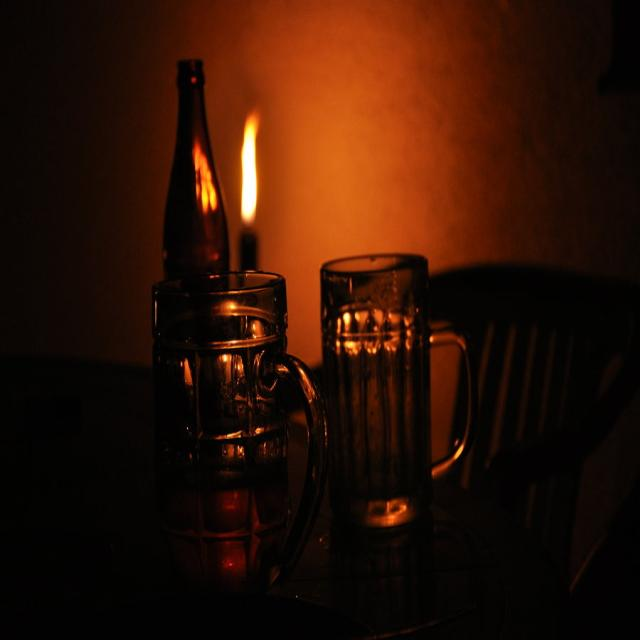Bottle: (151, 31, 231, 378)
Cup: (144, 260, 318, 591), (321, 252, 461, 540)
Table: (5, 336, 640, 640)
chair: (421, 209, 640, 585)
